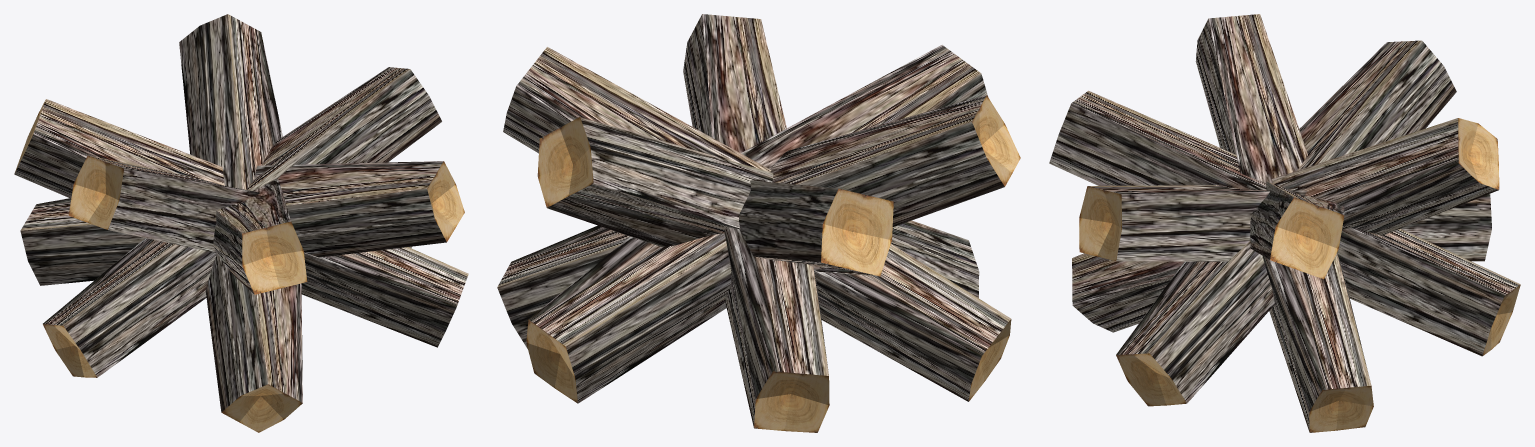
The model's file is Fireplace.fbx.
3 renders of one model, left to right at view 1: azimuth 30°, elevation 25°; view 2: azimuth 150°, elevation 25°; view 3: azimuth 270°, elevation 25°, orthographic. The views are drawn at different scales.
Visible parts, largest first — view 1: Logs; view 2: Logs; view 3: Logs.
Boxes of the visible parts, box(x1,y1,x2,y2) form: Logs: box(14, 14, 468, 432); Logs: box(497, 14, 1020, 432); Logs: box(1049, 14, 1520, 432).
Bounding box in the file's own units: 492 × 322 × 487.
